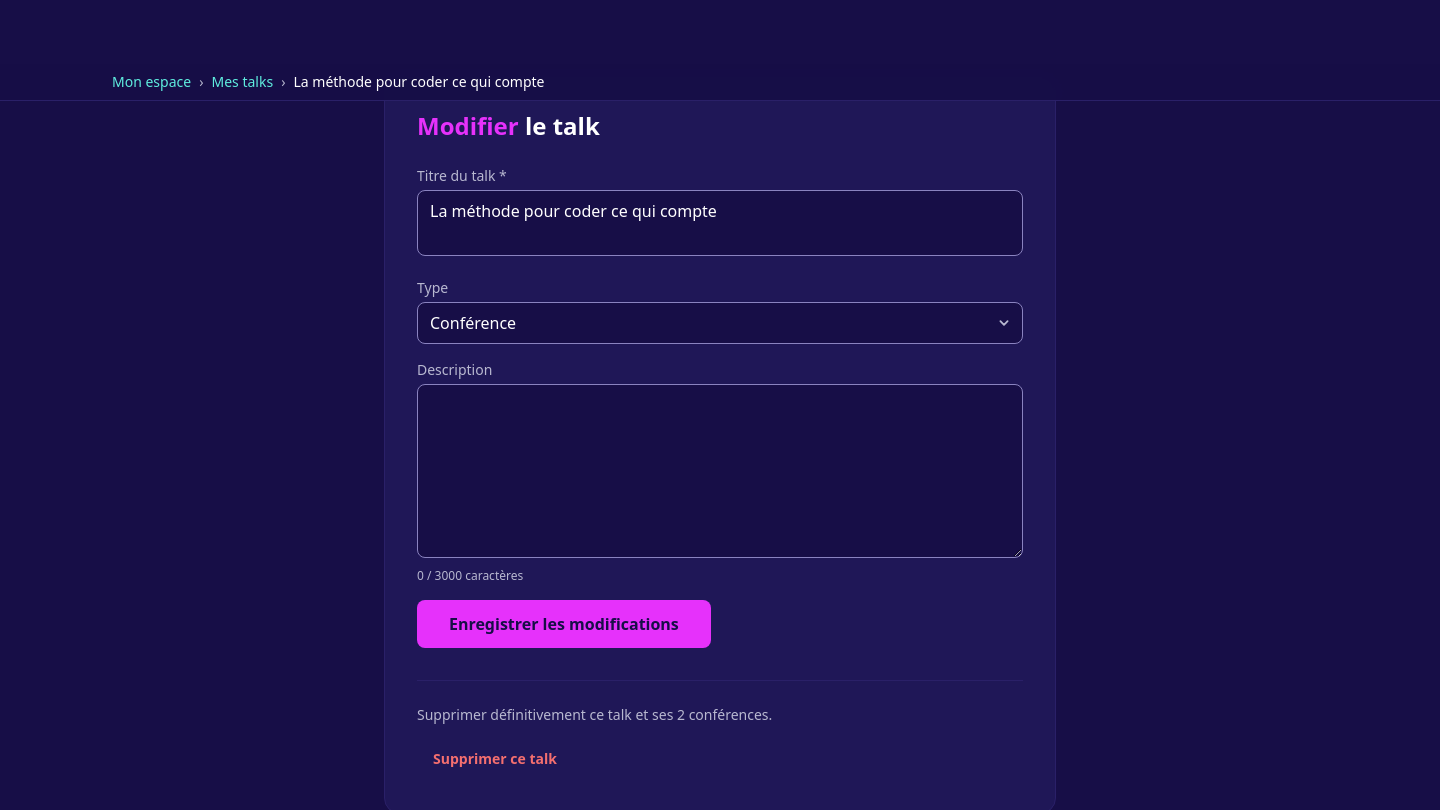
Test: Modifier un talk — zone de suppression › « Annuler » referme sans rien supprimer
Click the button "Supprimer ce talk": point(495, 759) [417,737,573,781]
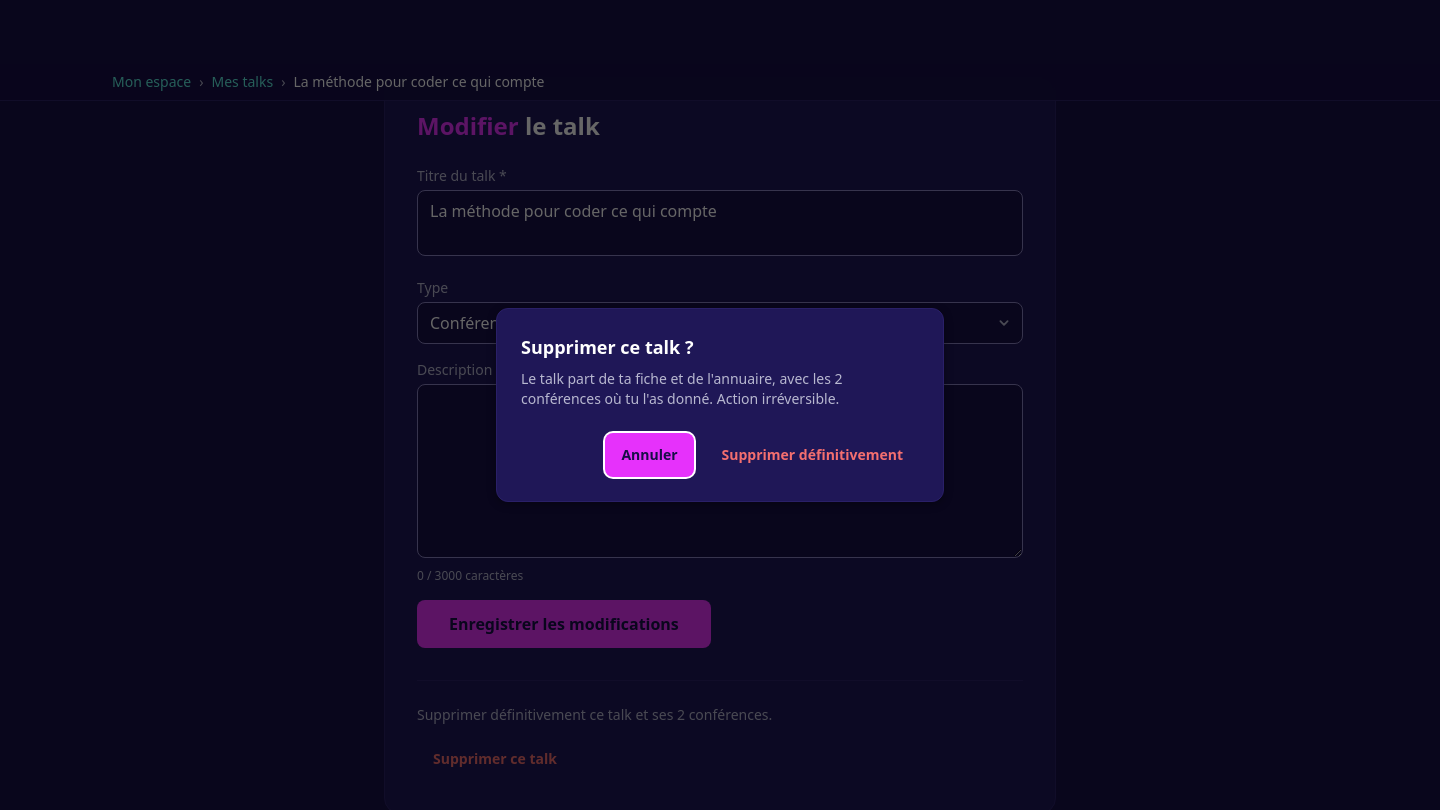
Click the button "Annuler": point(650, 455) [605,433,694,477]
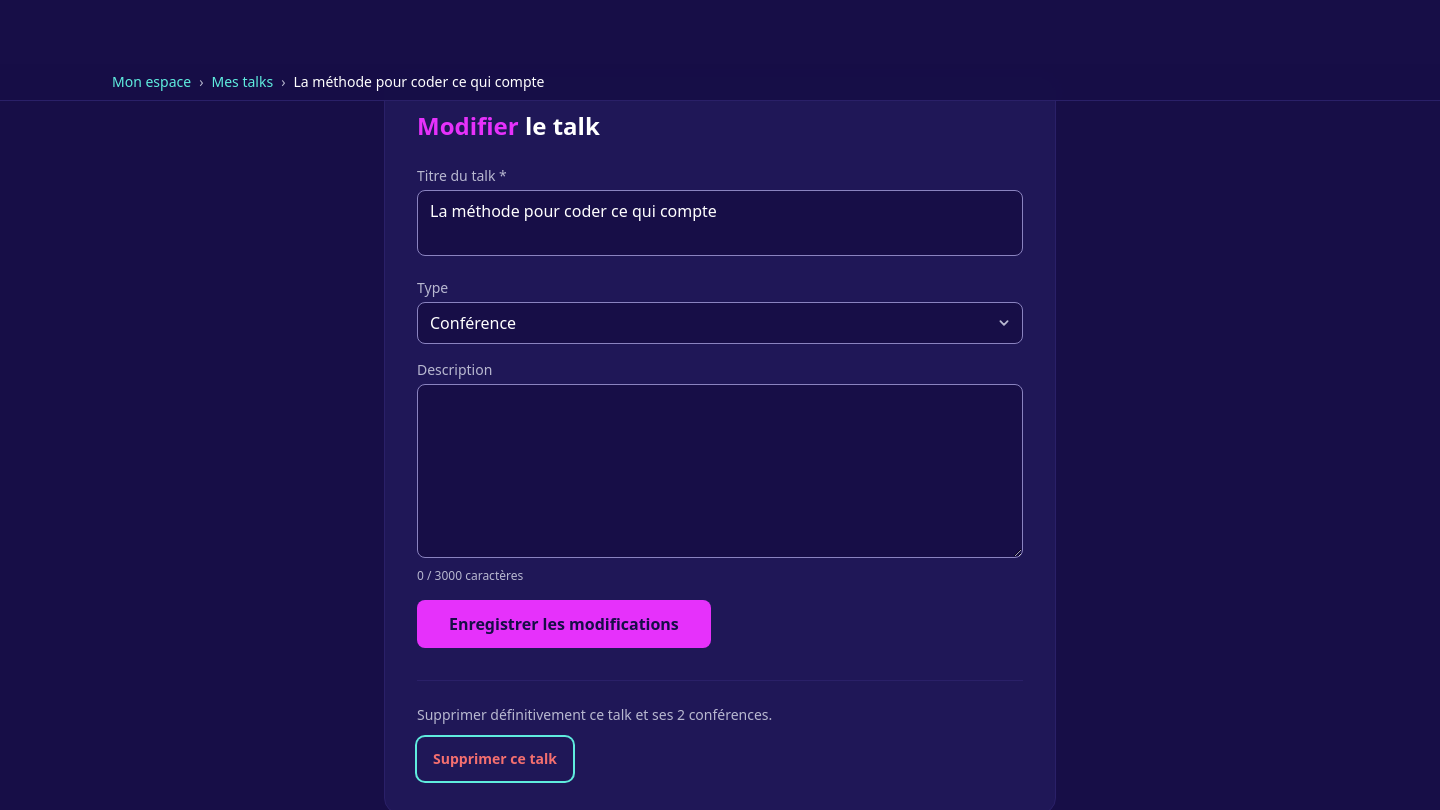
Now the dialog is gone
